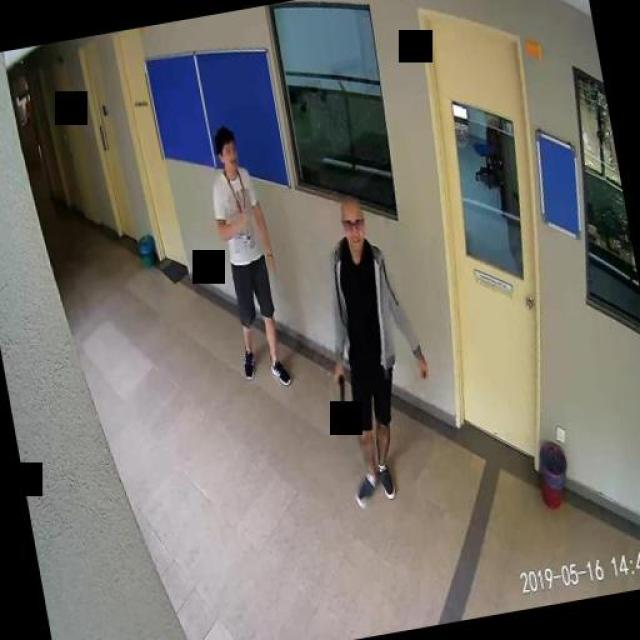gun: (330, 371, 351, 415)
